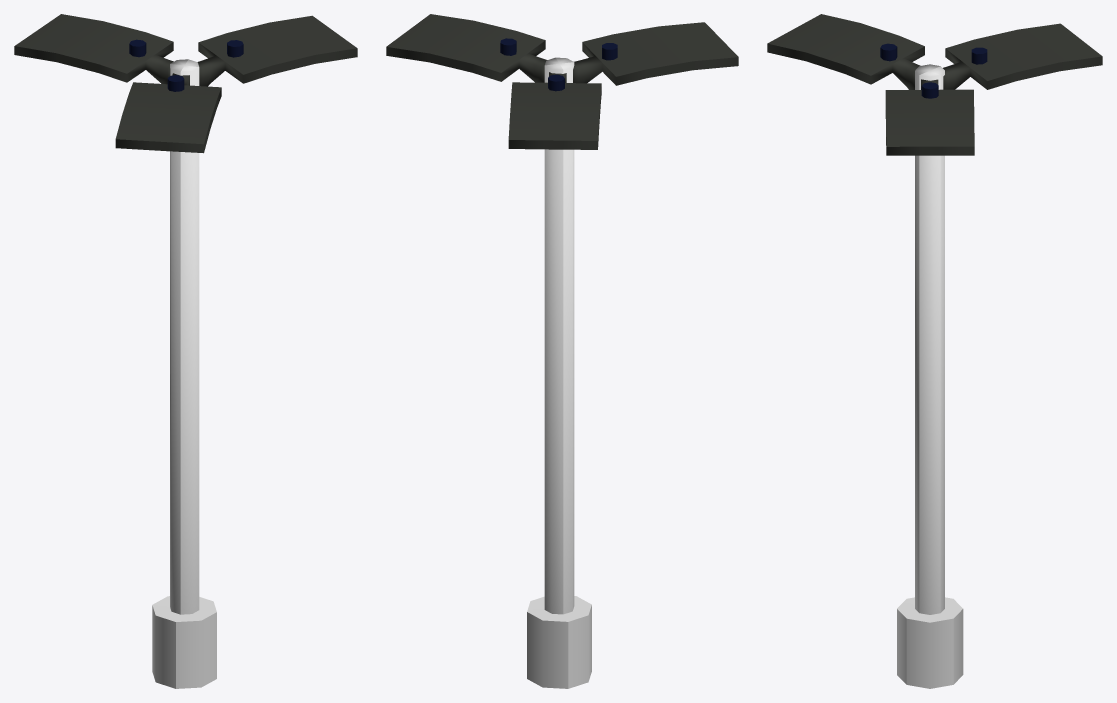
The model's file is Flood_Harbour-Light_05.fbx.
3 renders of one model, left to right at view 1: azimuth 30°, elevation 25°; view 2: azimuth 150°, elevation 25°; view 3: azimuth 270°, elevation 25°, orthographic.
Parts seen in each view (by area): view 1: Lights, pole; view 2: Lights, pole; view 3: Lights, pole.
Boxes of the visible parts, x1,y1,x2,y2 form: Lights: [14, 14, 357, 153]; pole: [152, 59, 216, 688]; Lights: [386, 14, 738, 149]; pole: [527, 57, 591, 688]; Lights: [767, 14, 1102, 155]; pole: [897, 64, 963, 688].
Size of the model in its own units: 2.79 by 6 by 2.97.
